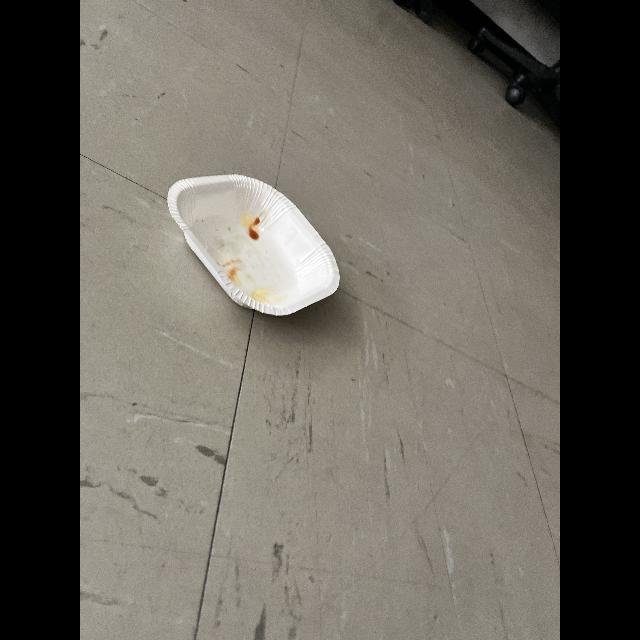cardboard_bowl: (156, 167, 358, 327)
